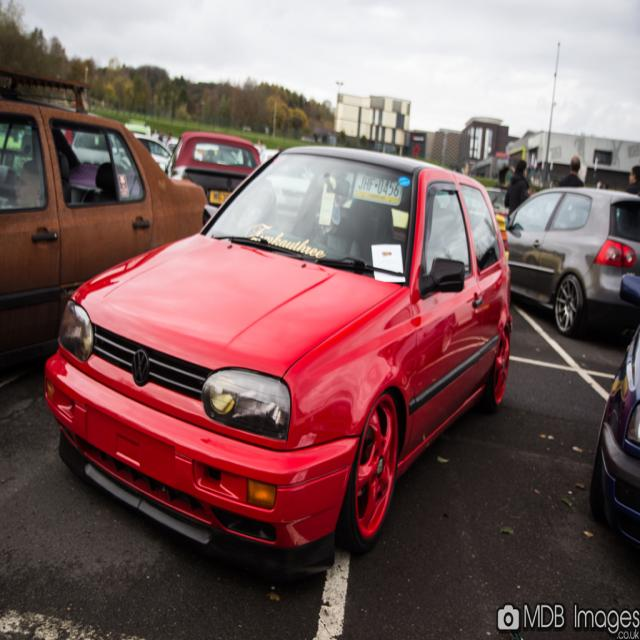car: (41, 141, 510, 574)
